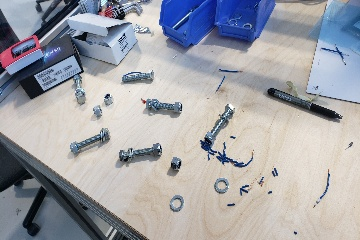Bolt: (121, 68, 158, 85)
FalseAssembly: (198, 100, 236, 146), (141, 95, 189, 112)
FinishedAssembly: (116, 139, 166, 168), (68, 125, 111, 155), (67, 69, 88, 108)
Nut: (166, 153, 183, 174), (101, 93, 116, 106), (92, 104, 103, 120)
Washer: (208, 173, 232, 195), (167, 194, 189, 213)
